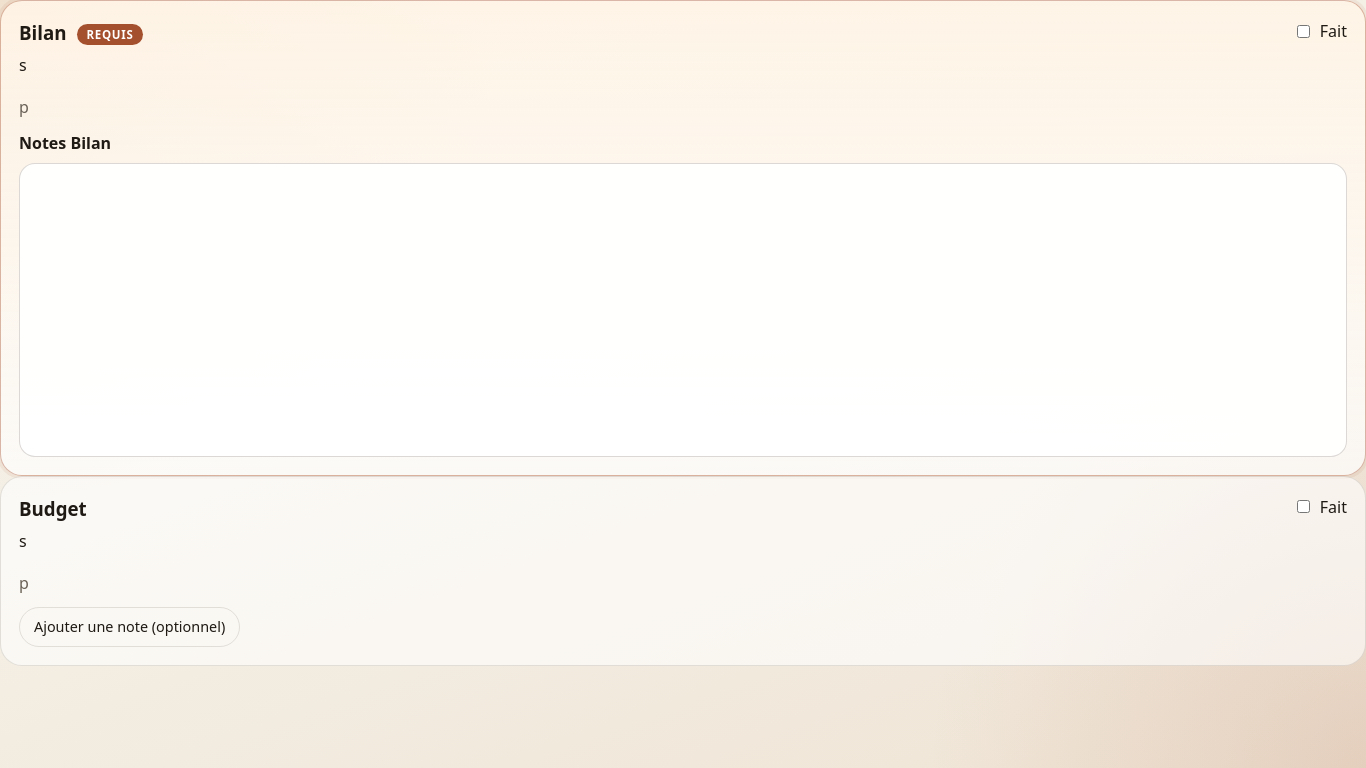
Test case: RitualSectionList notes › folds an empty optional note until it is asked for
Check: the field labelled "Notes Budget" is not shown
Click the button "Ajouter une note (optionnel)". click: (130, 627)
box: [19,607,240,647]
(page scrolled)
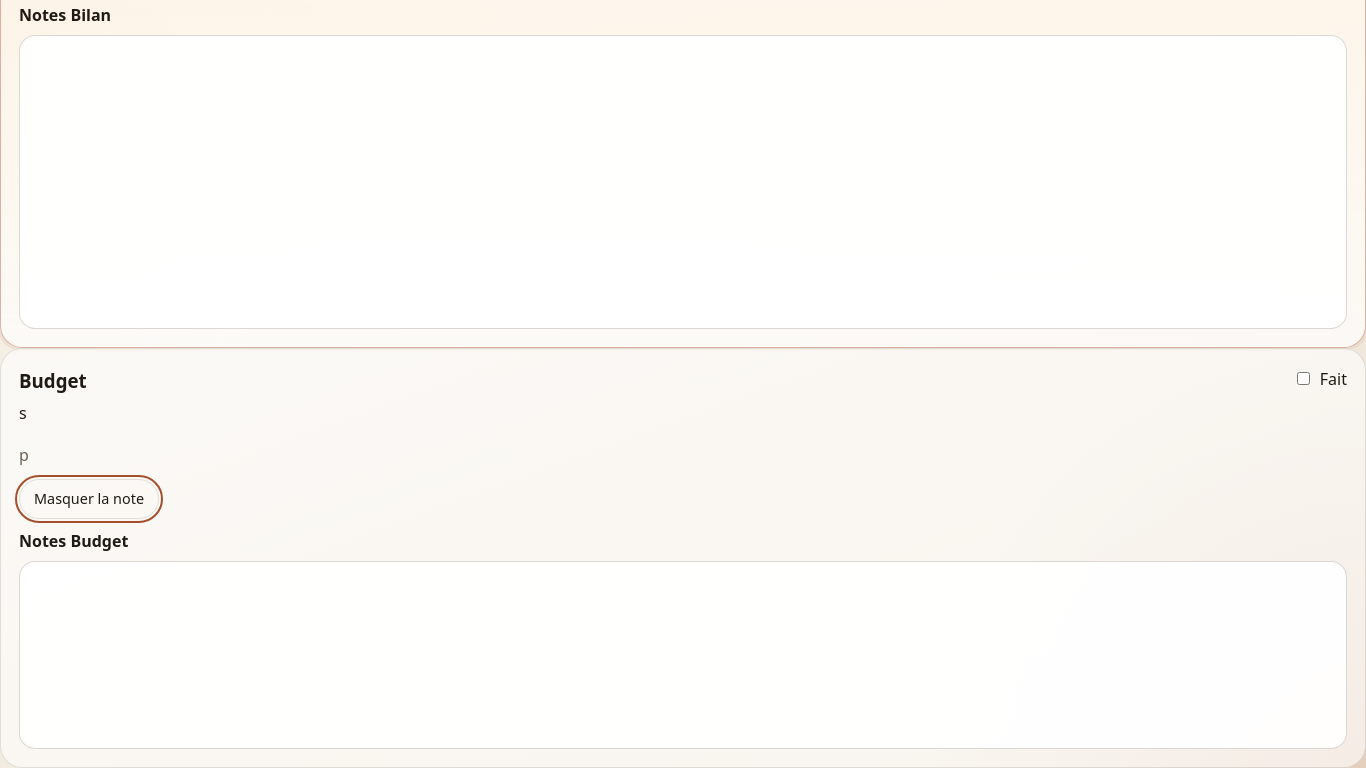
Check: the text box labelled "Notes Budget" is shown, box [19,561,1347,749]
